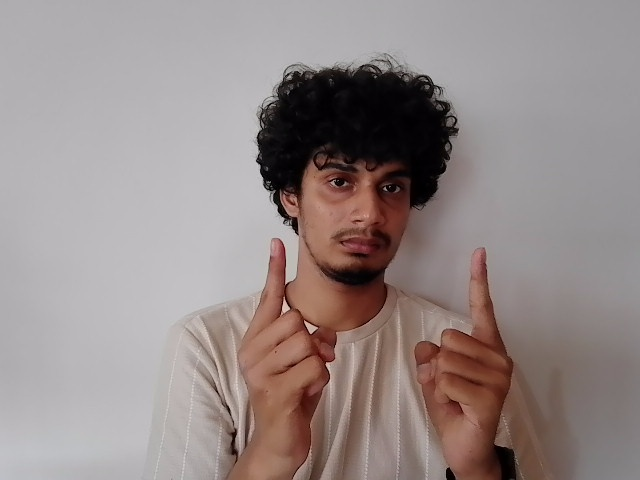play: (235, 232, 514, 447)
